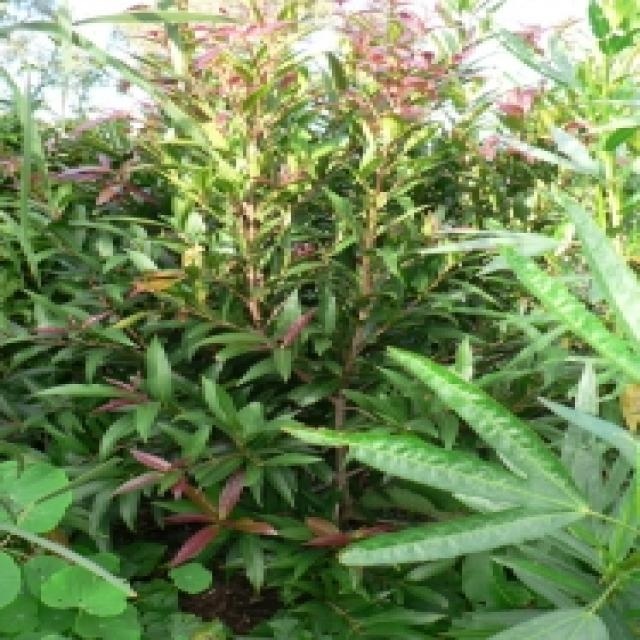Medicinal-Rose Apple: (67, 11, 398, 550)
